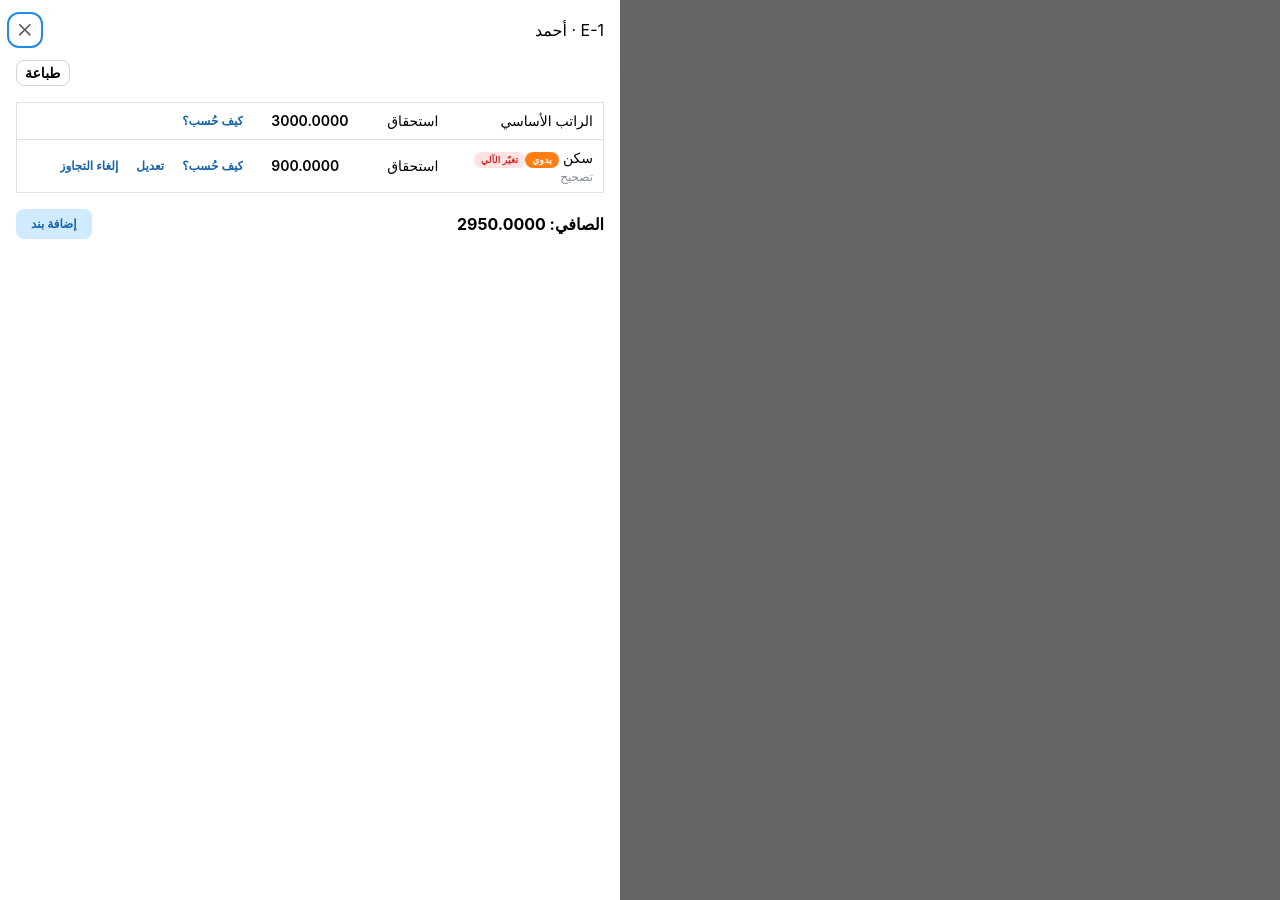
Test: الرواتب 7b: الدورات والقسيمة › القسيمة: شارة يدوي وتغيّر الآلي، و«كيف حُسب؟» يعرض الشرح
The width and height of the screenshot is (1280, 900).
expect the text "سكن" is shown: met, box [563,149,593,166]
expect the text "يدوي" is shown: met, box [532,153,552,167]
Click the button "كيف حُسب؟" in the row of "سكن": point(213, 166) [174,155,251,177]
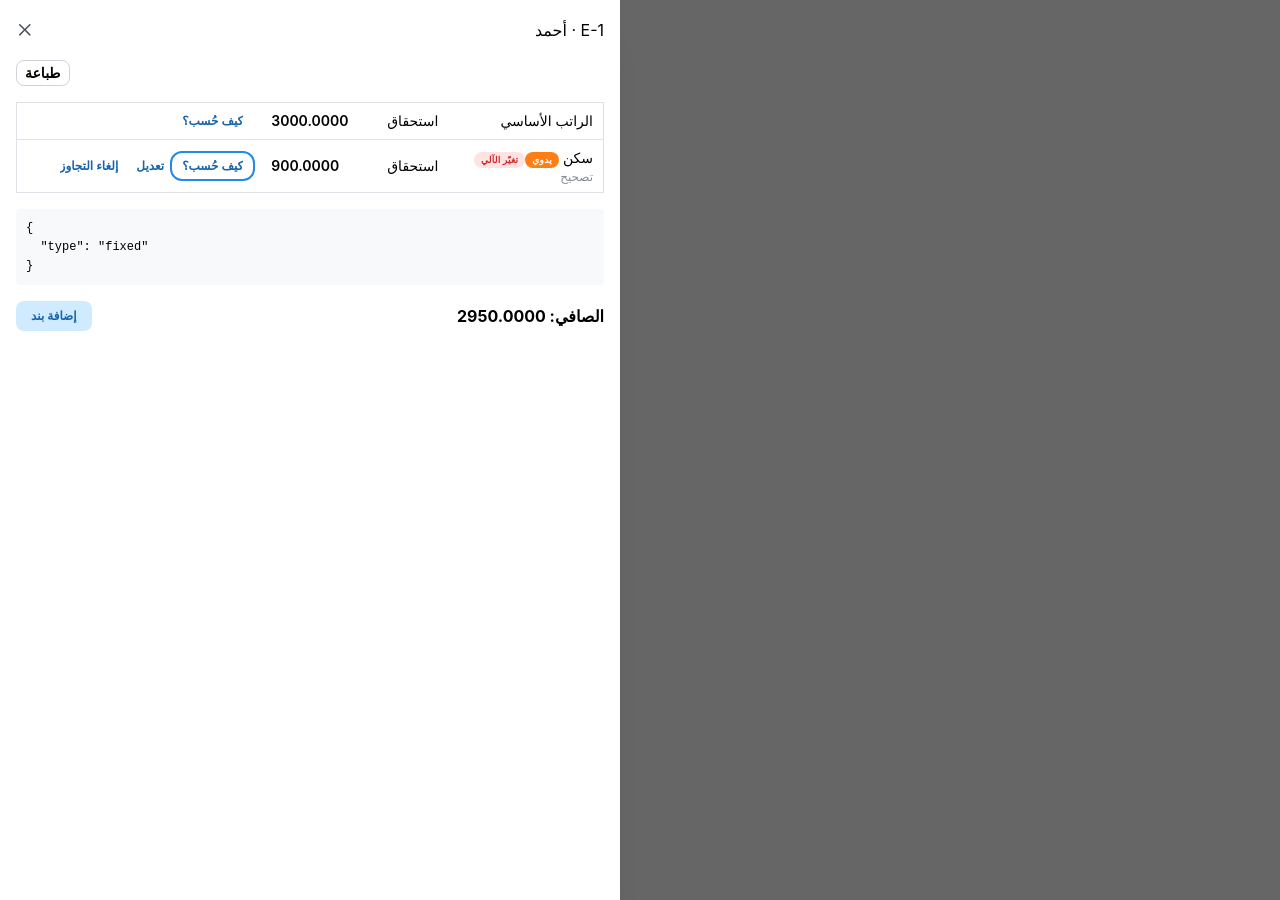
expect the text "{ \"type\": \"fixed\" }" is shown: met, box [16,210,604,285]
